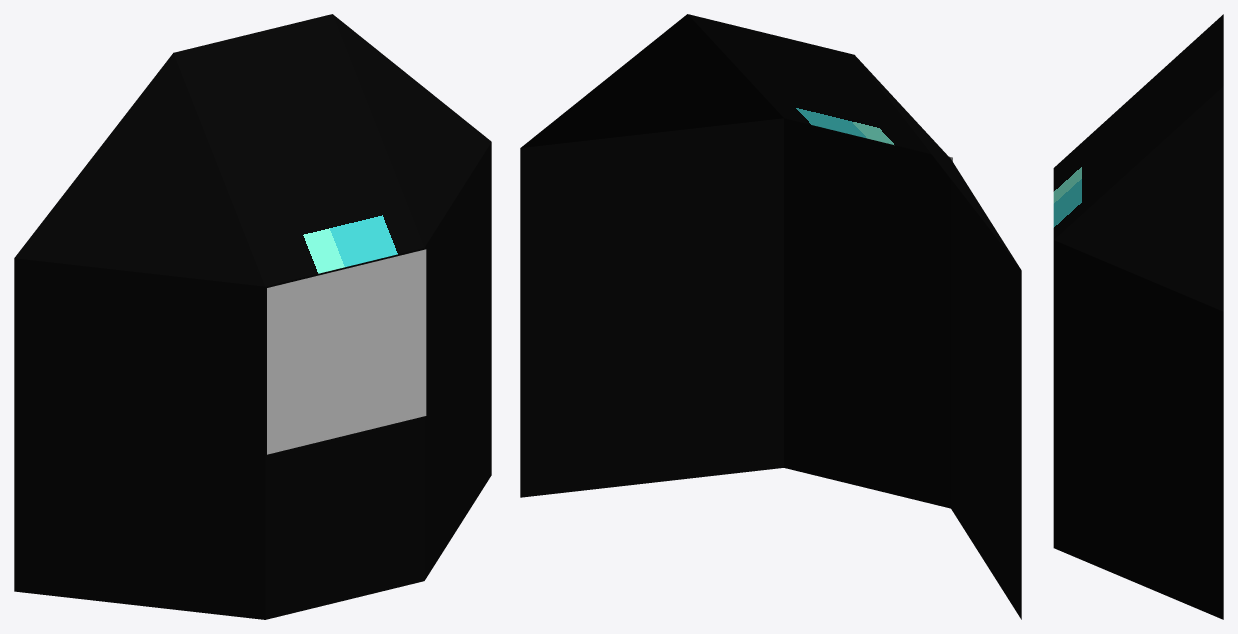
File: door-switch-2.gltf
The picture shows the model from 3 angles, left to right: view 1: azimuth 30°, elevation 25°; view 2: azimuth 150°, elevation 25°; view 3: azimuth 270°, elevation 25°; orthographic projection. The views are drawn at different scales.
Bounding box in the file's own units: 3 × 3 × 1.02.
